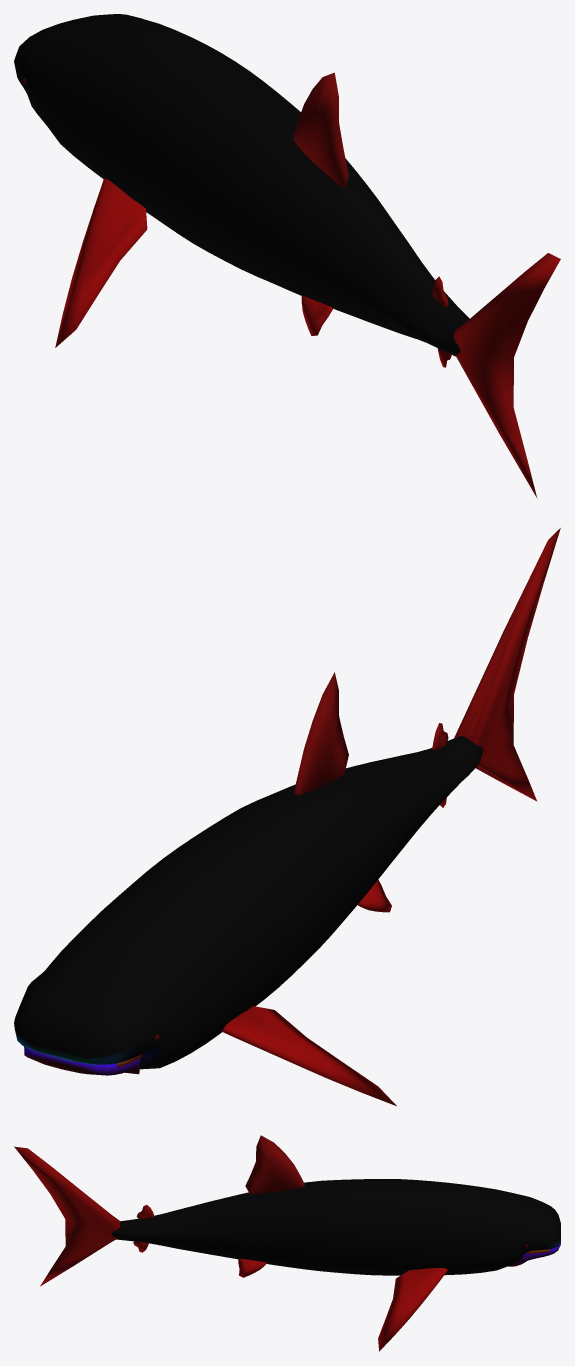
File: whale_shark_lo.glb
3 renders of one model, top to bottom at view 1: azimuth 30°, elevation 25°; view 2: azimuth 150°, elevation 25°; view 3: azimuth 270°, elevation 25°, orthographic. The views are drawn at different scales.
Parts seen in each view (by area): view 1: whale_shark_lo; view 2: whale_shark_lo; view 3: whale_shark_lo.
Part boxes in pixels (bbox=[...]): whale_shark_lo: bbox=[14, 14, 560, 498]; whale_shark_lo: bbox=[14, 528, 560, 1106]; whale_shark_lo: bbox=[14, 1135, 560, 1351].
Bounding box in the file's own units: 3.92 × 3.43 × 9.93.
